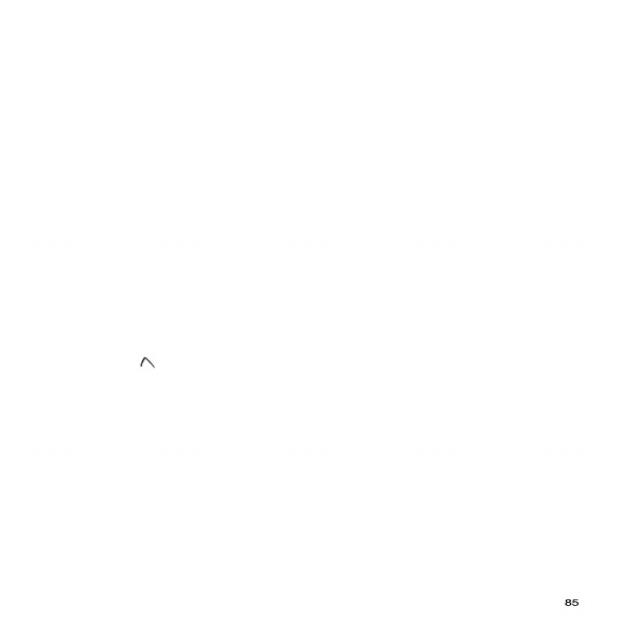8 -eight-: (137, 355, 157, 370)
